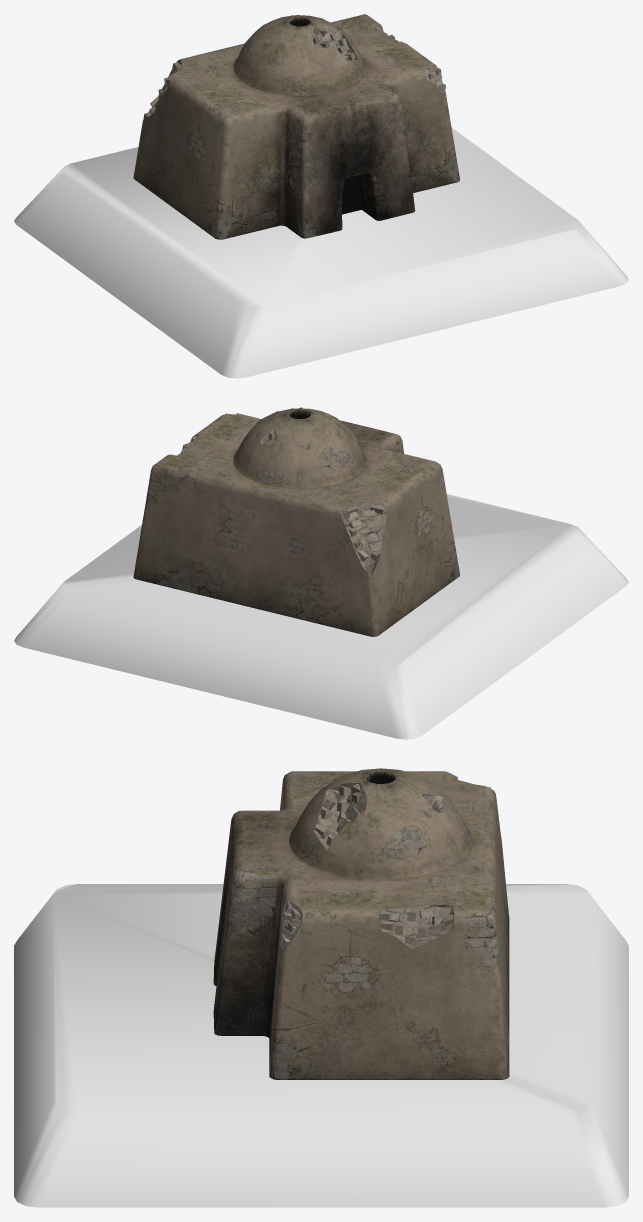
File: Limestone Burner Destruction Stage 1.fbx
The picture shows the model from 3 angles, top to bottom: view 1: azimuth 30°, elevation 25°; view 2: azimuth 150°, elevation 25°; view 3: azimuth 270°, elevation 25°; orthographic projection. The views are drawn at different scales.
Visible parts, largest first — view 1: Limestone_Burner_Base_Destruction_S1, Limestone_Burner_Destruction_S1; view 2: Limestone_Burner_Base_Destruction_S1, Limestone_Burner_Destruction_S1; view 3: Limestone_Burner_Base_Destruction_S1, Limestone_Burner_Destruction_S1.
Boxes of the visible parts, x1=… form: Limestone_Burner_Base_Destruction_S1: x1=14, y1=128, x2=628, y2=378; Limestone_Burner_Destruction_S1: x1=133, y1=14, x2=459, y2=239; Limestone_Burner_Base_Destruction_S1: x1=14, y1=494, x2=628, y2=739; Limestone_Burner_Destruction_S1: x1=133, y1=407, x2=459, y2=636; Limestone_Burner_Base_Destruction_S1: x1=14, y1=884, x2=628, y2=1207; Limestone_Burner_Destruction_S1: x1=213, y1=768, x2=509, y2=1079.
Size of the model in its own units: 796 by 400 by 758.
